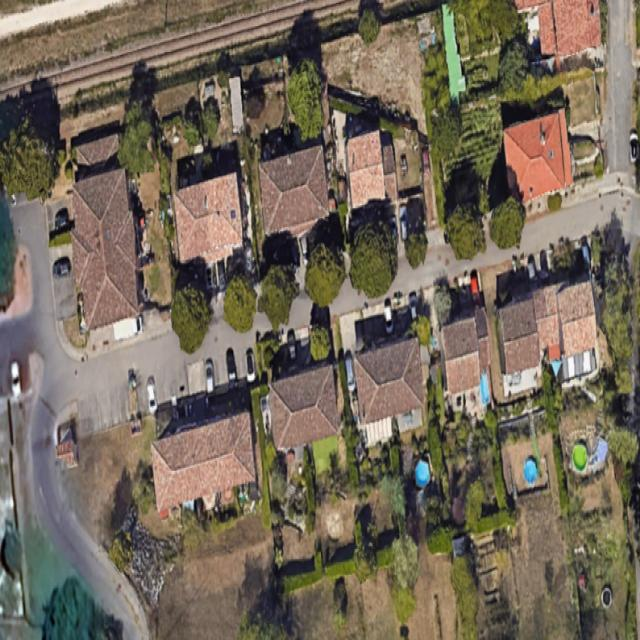maison: (139, 412, 268, 510), (69, 170, 137, 331), (168, 172, 251, 267), (262, 364, 345, 448), (500, 110, 574, 204), (257, 144, 330, 237), (352, 336, 428, 424), (336, 128, 402, 208), (442, 312, 491, 395)
